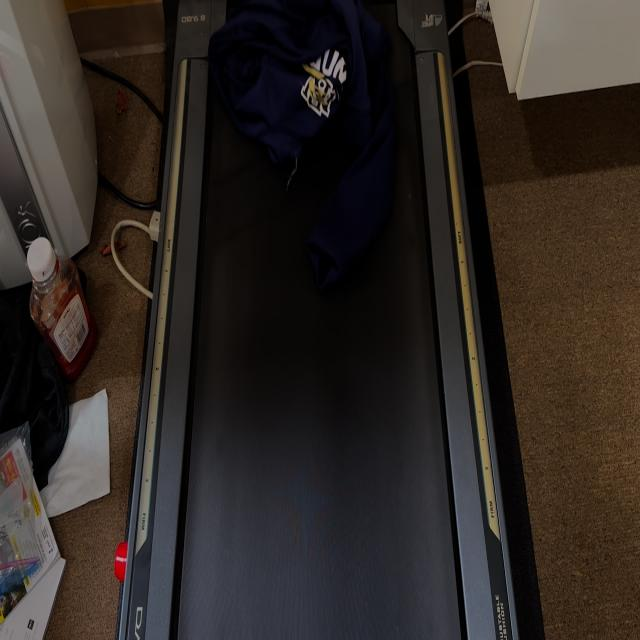Trash: (207, 5, 396, 289)
